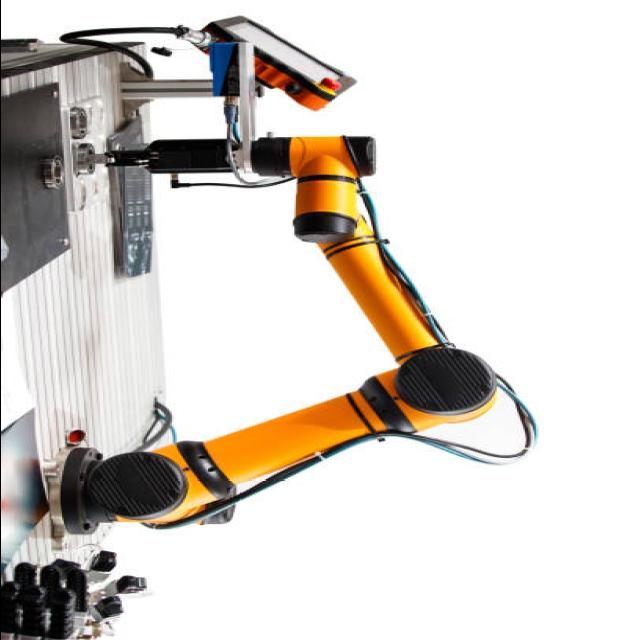Robotic-arm: (48, 124, 512, 548)
